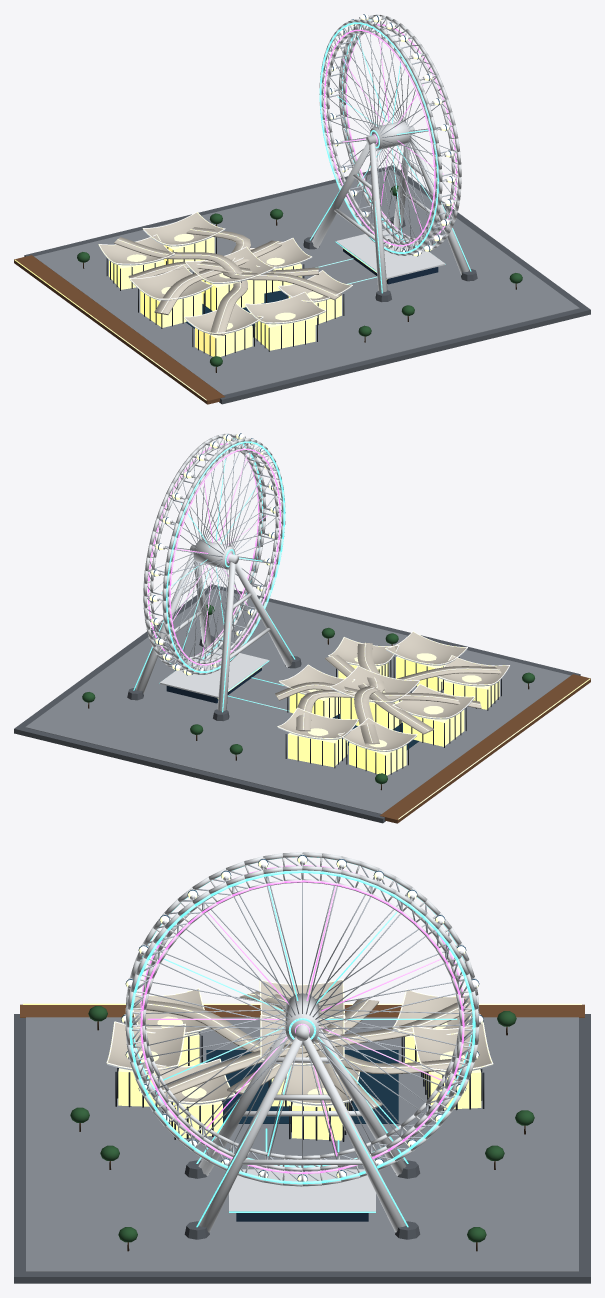
The model's file is moca_eye_of_suzhou.glb.
3 renders of one model, top to bottom at view 1: azimuth 30°, elevation 25°; view 2: azimuth 150°, elevation 25°; view 3: azimuth 270°, elevation 25°, orthographic. The views are drawn at different scales.
Visible parts, largest first — view 1: MoCA_Eye_Static, FerrisWheelRotor; view 2: MoCA_Eye_Static, FerrisWheelRotor; view 3: MoCA_Eye_Static, FerrisWheelRotor.
Part boxes in pixels (x1=…): MoCA_Eye_Static: x1=14, y1=125, x2=590, y2=404; FerrisWheelRotor: x1=319, y1=14, x2=461, y2=256; MoCA_Eye_Static: x1=14, y1=544, x2=590, y2=823; FerrisWheelRotor: x1=143, y1=433, x2=285, y2=675; MoCA_Eye_Static: x1=14, y1=979, x2=590, y2=1283; FerrisWheelRotor: x1=121, y1=852, x2=483, y2=1186.
Bounding box in the file's own units: 214 × 132 × 192.
